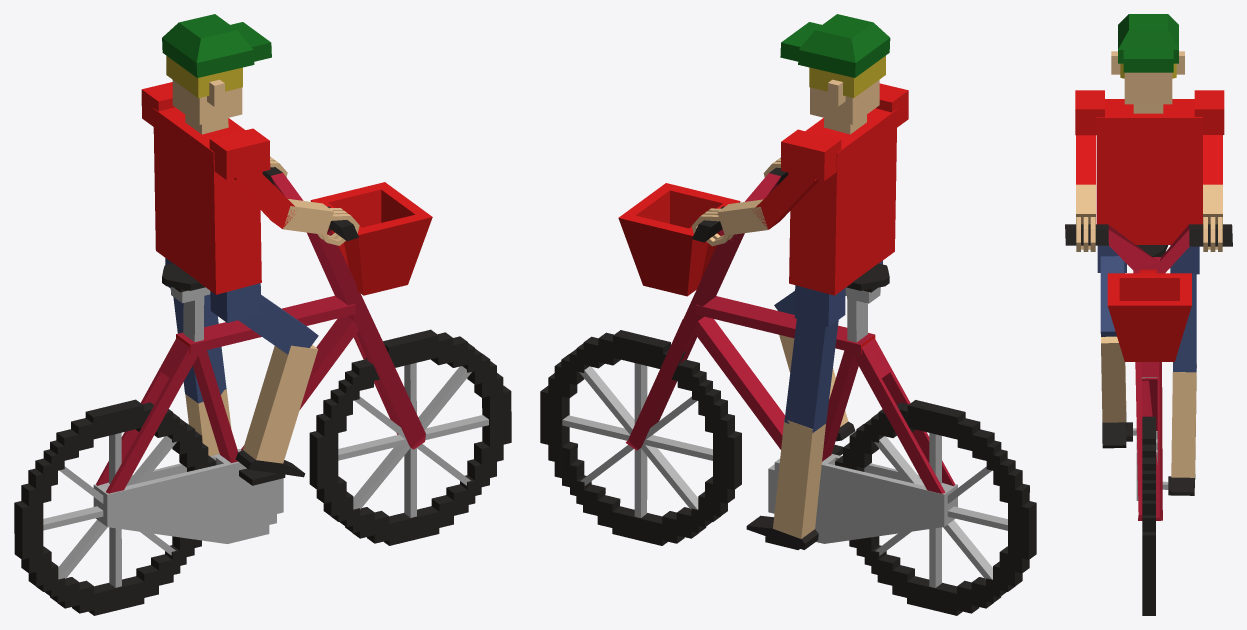
The model's file is Paperboy.fbx.
3 renders of one model, left to right at view 1: azimuth 30°, elevation 25°; view 2: azimuth 150°, elevation 25°; view 3: azimuth 270°, elevation 25°, orthographic. The views are drawn at different scales.
Parts seen in each view (by area): view 1: pCube69, pCube66, pCube55, pCube110, pCube78, pCube86, pCube105, pCube108, pCube76, pCube103, pCube80, pCube77 (+3 smaller); view 2: pCube69, pCube66, pCube55, pCube110, pCube81, pCube86, pCube80, pCube105, pCube107, pCube109, pCube79, pCube99 (+2 smaller); view 3: pCube110, pCube69, pCube86, pCube81, pCube66, pCube78, pCube105, pCube108, pCube107, pCube80, pCube76, pCube103 (+8 smaller).
Boxes of the visible parts, x1,y1,x2,y2 form: pCube69: (93,167,432,543); pCube66: (309,329,511,545); pCube55: (14,399,216,615); pCube110: (153,107,261,294); pCube78: (235,345,318,477); pCube86: (162,14,271,77); pCube105: (166,56,242,124); pCube108: (209,128,270,179); pCube76: (238,295,318,354); pCube103: (231,171,294,228); pCube80: (173,294,226,403); pCube77: (210,283,261,322); pCube69: (618,167,957,543); pCube66: (540,330,741,545); pCube55: (835,400,1036,615); pCube110: (789,108,897,295); pCube81: (746,419,825,549); pCube86: (780,14,890,77); pCube80: (784,319,838,432); pCube105: (809,55,885,124); pCube107: (781,129,841,180); pCube109: (753,172,818,229); pCube79: (794,285,845,326); pCube99: (717,199,768,235); pCube110: (1096,99,1202,244); pCube69: (1065,224,1232,520); pCube86: (1118,14,1178,72); pCube81: (1170,363,1196,495); pCube66: (1142,416,1155,615); pCube78: (1101,336,1126,448); pCube105: (1120,63,1176,104); pCube108: (1075,90,1104,135); pCube107: (1194,90,1224,134); pCube80: (1173,274,1196,372); pCube76: (1100,256,1124,336); pCube103: (1076,135,1095,184).
Size of the model in its own units: 6.77 by 7.42 by 2.28.
